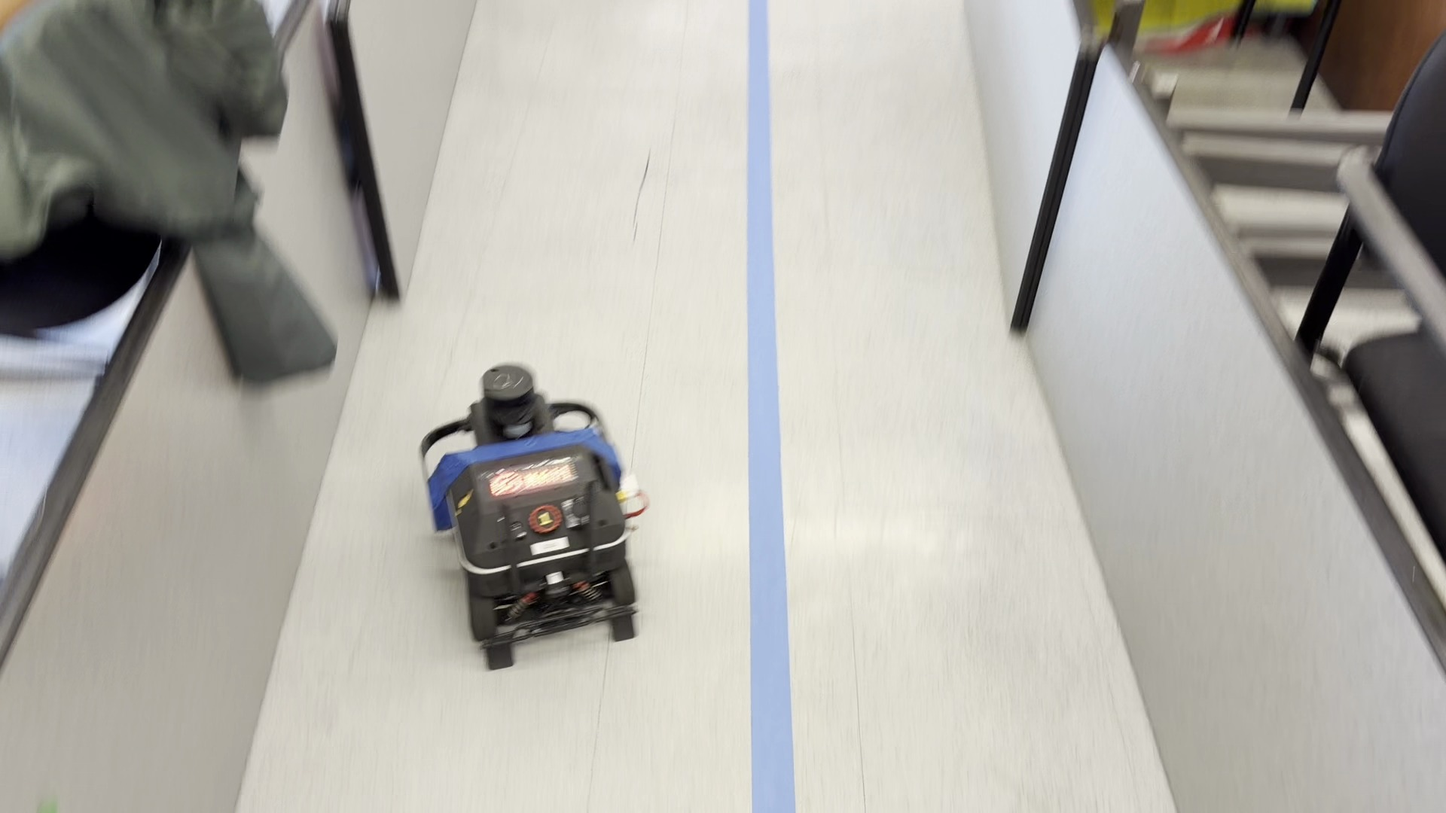racecar: (421, 365, 649, 668)
